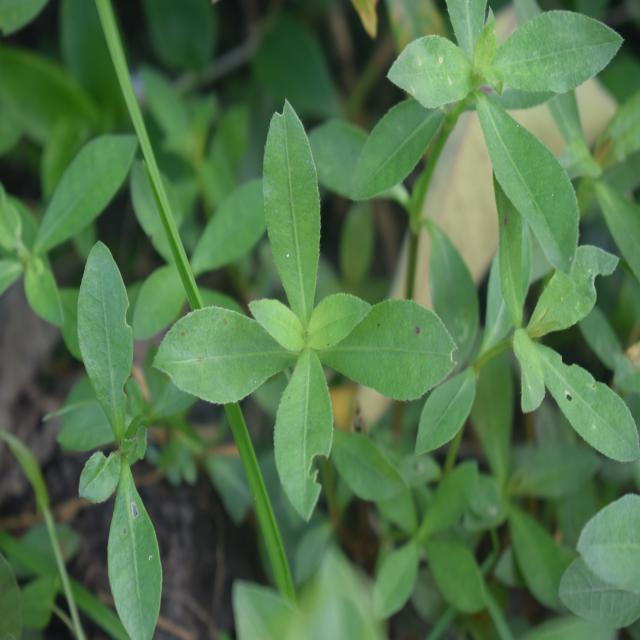Alligatorweed: (155, 106, 456, 512), (441, 156, 630, 503), (368, 6, 589, 298), (53, 224, 186, 622)
